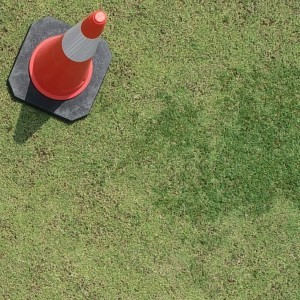traffic cone: (7, 10, 111, 122)
